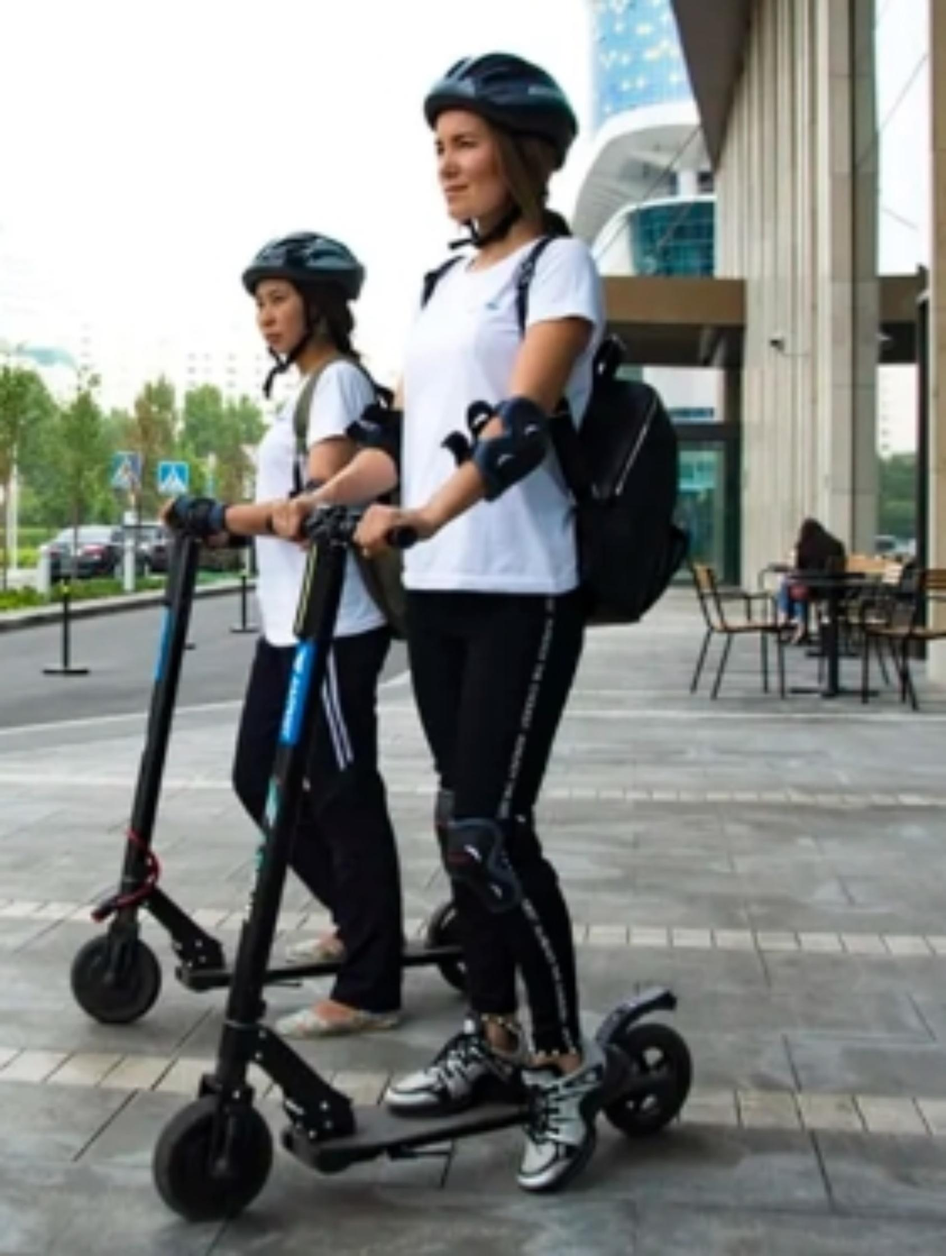helmet: (393, 45, 624, 241), (210, 205, 384, 400)
human: (407, 41, 598, 1192), (194, 230, 411, 954)
kickboard: (172, 1043, 699, 1208), (64, 915, 474, 1024)
